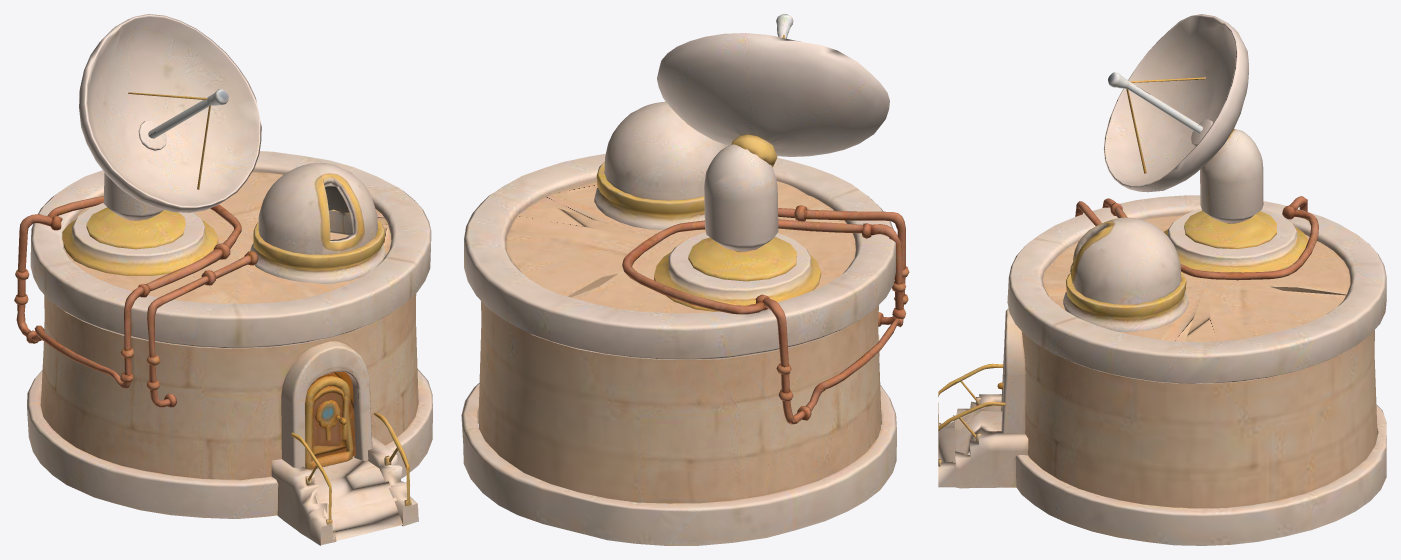
File: sky-observatory.glb
The picture shows the model from 3 angles, left to right: view 1: azimuth 30°, elevation 25°; view 2: azimuth 150°, elevation 25°; view 3: azimuth 270°, elevation 25°; orthographic projection. The views are drawn at different scales.
Parts seen in each view (by area): view 1: sky-observatory; view 2: sky-observatory; view 3: sky-observatory.
Boxes of the visible parts, box(x1,y1,x2,y2) form: sky-observatory: box(14, 14, 432, 545); sky-observatory: box(461, 14, 909, 545); sky-observatory: box(938, 14, 1386, 545).
Size of the model in its own units: 6 by 6.89 by 7.
1 material, 1 textured.
